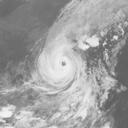cyclone: (38, 45, 83, 86)
